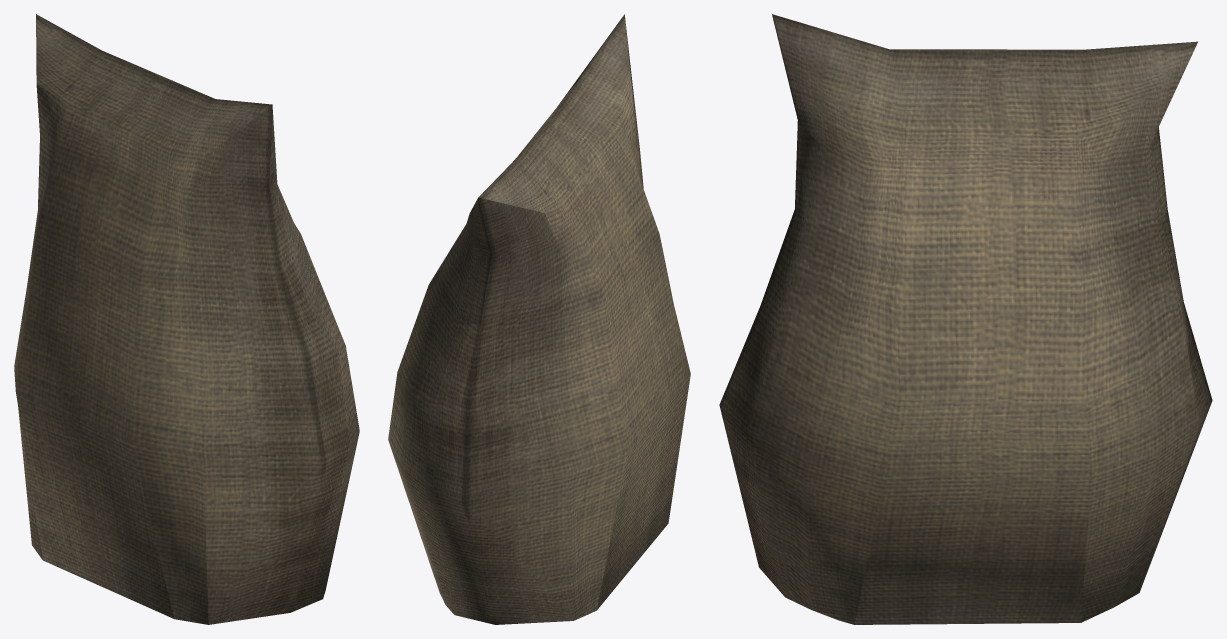
File: Sack_LOD02.fbx
3 views of the same model, side by side, from view 1: azimuth 30°, elevation 25°; view 2: azimuth 150°, elevation 25°; view 3: azimuth 270°, elevation 25° (orthographic). The views are drawn at different scales.
Parts seen in each view (by area): view 1: Mesh Object; view 2: Mesh Object; view 3: Mesh Object.
Boxes of the visible parts, x1,y1,x2,y2 form: Mesh Object: (14,14,359,624); Mesh Object: (388,14,690,624); Mesh Object: (719,14,1212,624).
Size of the model in its own units: 0.3899 by 0.7681 by 0.587.
